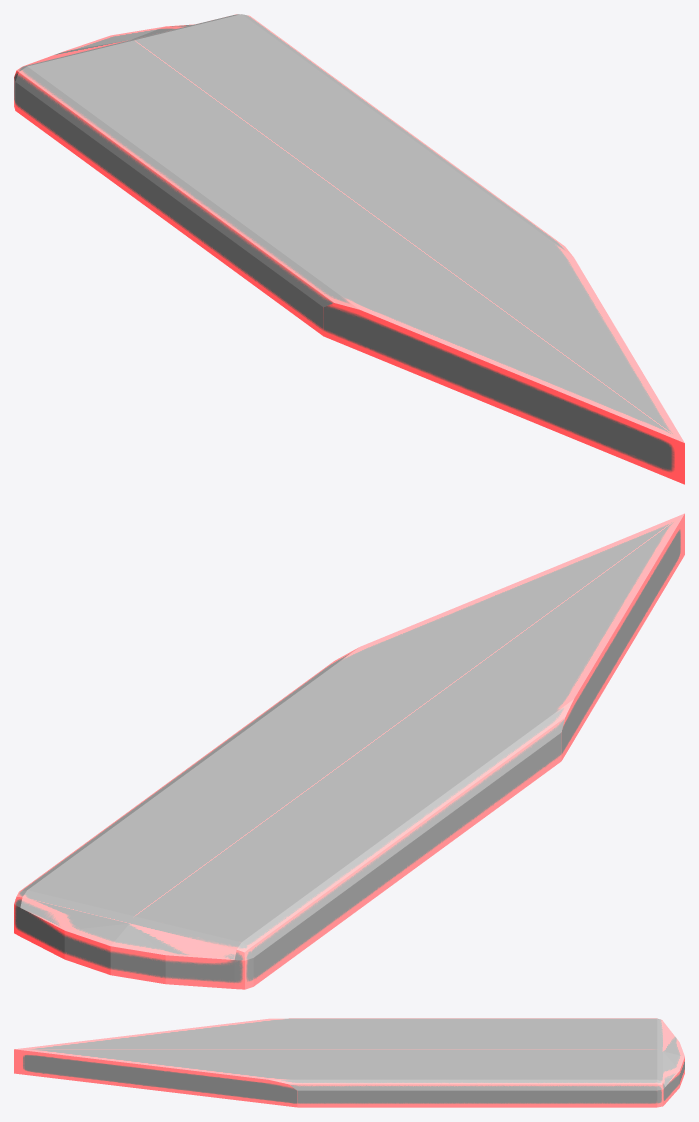
The model's file is Hoverboard.fbx.
The picture shows the model from 3 angles, top to bottom: view 1: azimuth 30°, elevation 25°; view 2: azimuth 150°, elevation 25°; view 3: azimuth 270°, elevation 25°; orthographic projection. The views are drawn at different scales.
Parts seen in each view (by area): view 1: Board; view 2: Board; view 3: Board.
Part boxes in pixels (x1,y1,x2,y2): Board: [14, 14, 684, 484]; Board: [14, 513, 684, 989]; Board: [14, 1018, 684, 1107].
Size of the model in its own units: 60 by 10 by 251.
